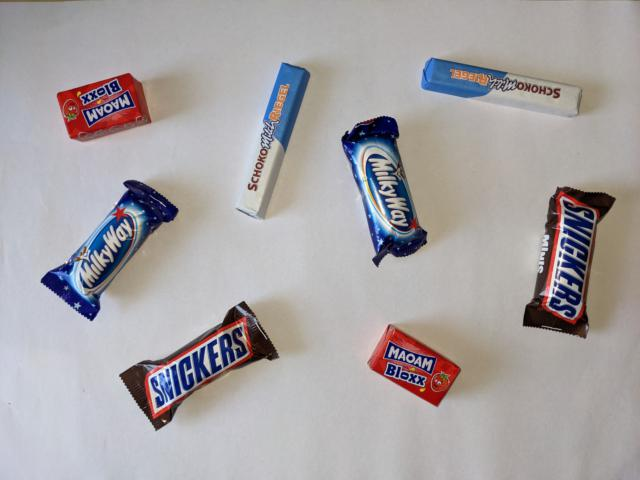MAOAM: (365, 322, 463, 409), (54, 72, 153, 143)
MilkyWay: (38, 178, 182, 323), (339, 113, 430, 268)
Schokoriegel: (232, 61, 313, 224), (419, 54, 587, 120)
Snickers: (117, 299, 281, 433), (519, 185, 618, 342)
